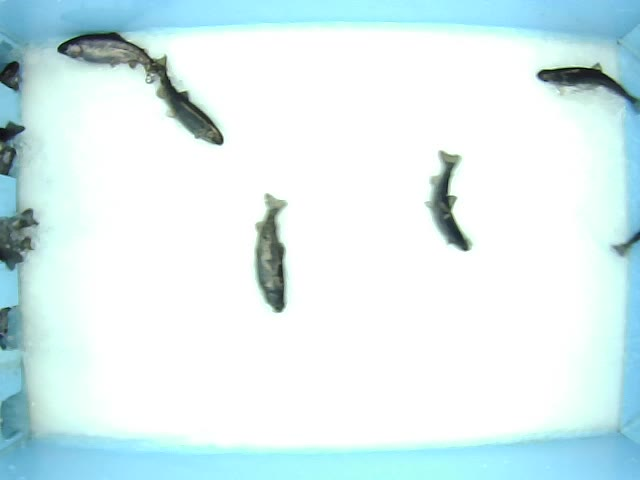fish: (245, 187, 298, 337), (531, 58, 640, 111), (155, 71, 229, 149), (430, 152, 474, 252), (60, 37, 152, 72)
